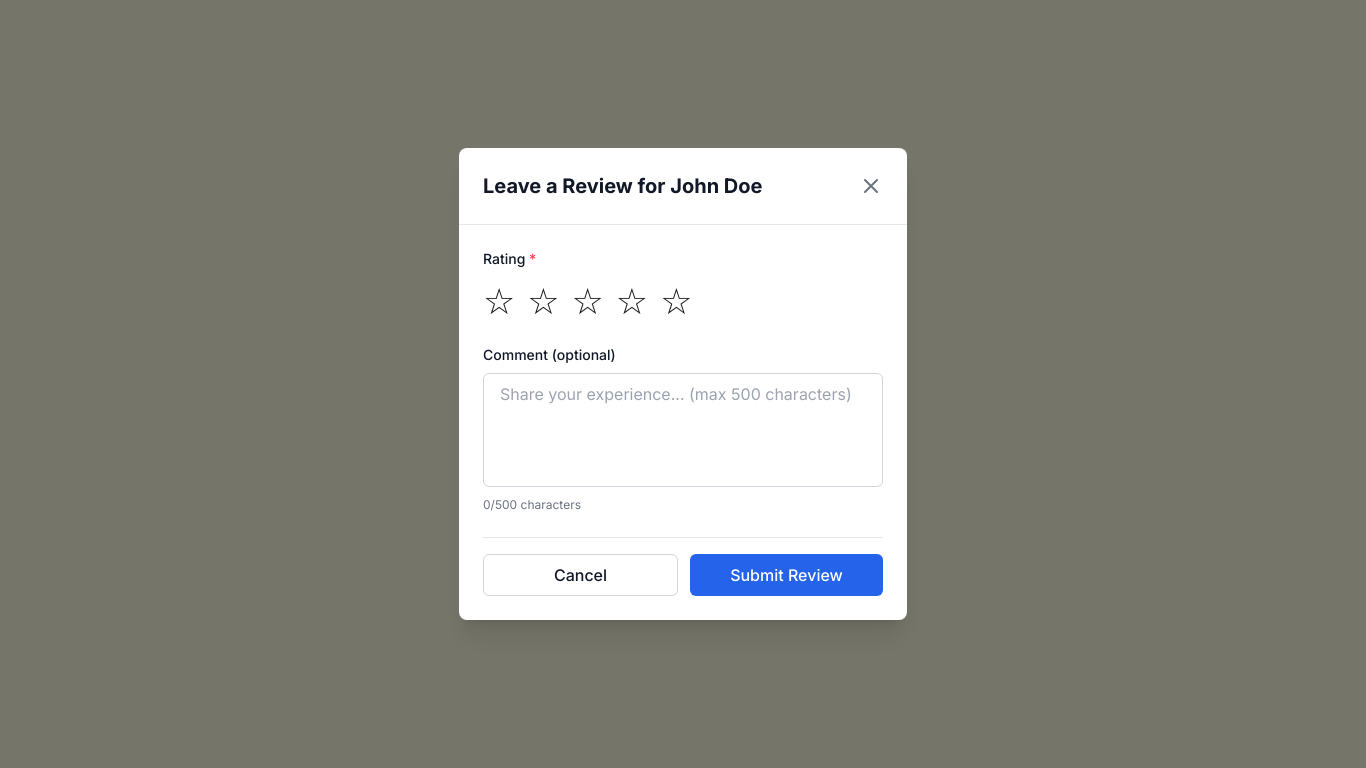
LeaveReviewModal › submission › shows success message after successful submission
Click the button named "Rate 5 stars" at (676, 301), box 660,281 -> 692,321
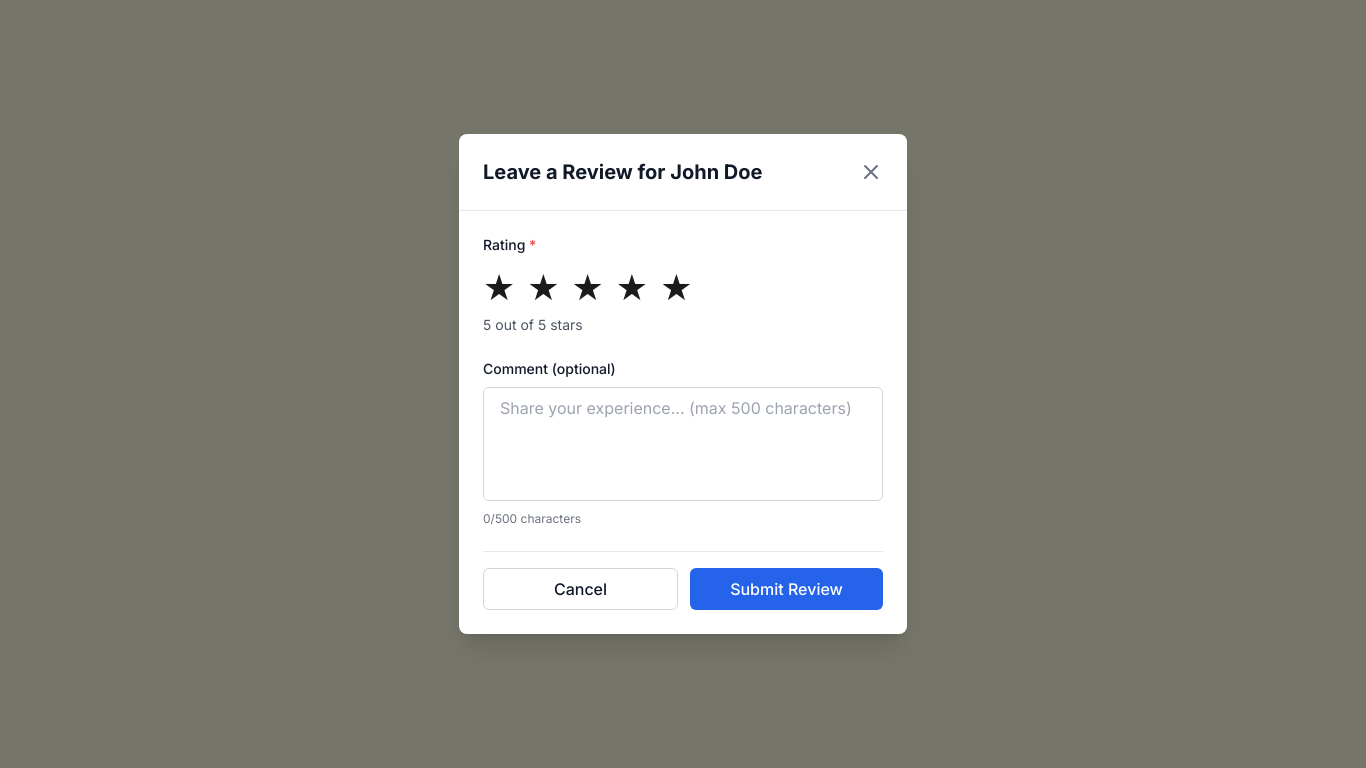
Click the button "Submit Review" at (786, 589), box 690,568 -> 883,610
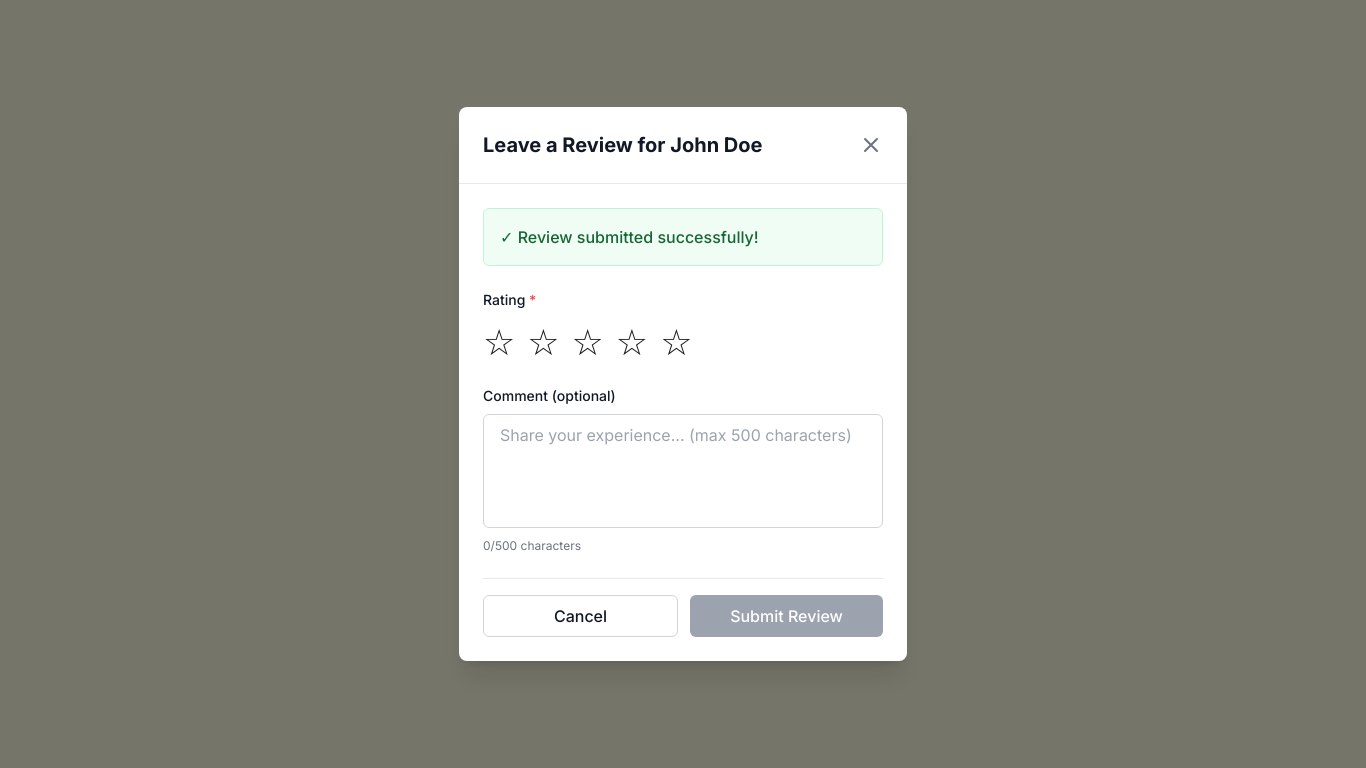
expect the text "✓ Review submitted successfully!" is shown: met, box 500,227 -> 759,247
